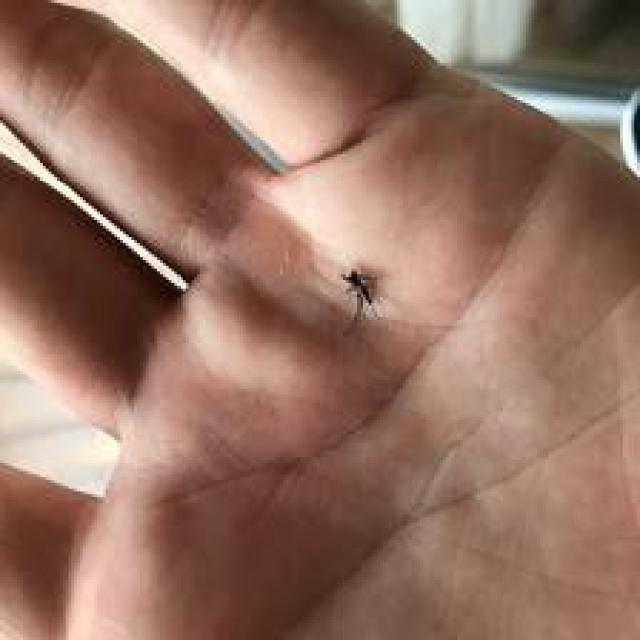Aedes albopictus: (338, 266, 378, 320)
